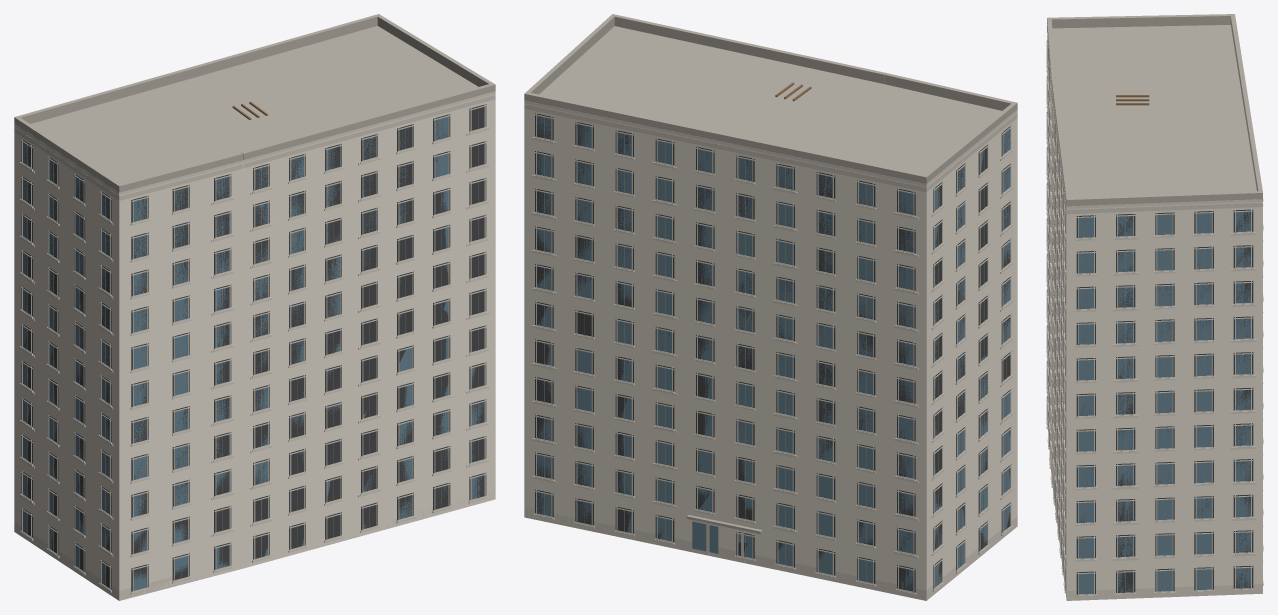
Rendered from cop_residencial_orla_05__way_586695359.fbx.
3 renders of one model, left to right at view 1: azimuth 30°, elevation 25°; view 2: azimuth 150°, elevation 25°; view 3: azimuth 270°, elevation 25°, orthographic. The views are drawn at different scales.
Visible parts, largest first — view 1: cop_residencial_orla_05__way_586695359_wall, cop_residencial_orla_05__way_586695359_shadow, cop_residencial_orla_05__way_586695359_roof, cop_residencial_orla_05__way_586695359_trim, cop_residencial_orla_05__way_586695359_glass, cop_residencial_orla_05__way_586695359_stone, cop_residencial_orla_05__way_586695359_metal; view 2: cop_residencial_orla_05__way_586695359_wall, cop_residencial_orla_05__way_586695359_roof, cop_residencial_orla_05__way_586695359_glass, cop_residencial_orla_05__way_586695359_shadow, cop_residencial_orla_05__way_586695359_trim, cop_residencial_orla_05__way_586695359_stone, cop_residencial_orla_05__way_586695359_metal; view 3: cop_residencial_orla_05__way_586695359_wall, cop_residencial_orla_05__way_586695359_roof, cop_residencial_orla_05__way_586695359_glass, cop_residencial_orla_05__way_586695359_trim, cop_residencial_orla_05__way_586695359_shadow, cop_residencial_orla_05__way_586695359_stone, cop_residencial_orla_05__way_586695359_metal, cop_residencial_orla_05__way_586695359_wood.
Boxes of the visible parts, x1=… form: cop_residencial_orla_05__way_586695359_wall: x1=14, y1=94, x2=495, y2=600; cop_residencial_orla_05__way_586695359_shadow: x1=21, y1=104, x2=486, y2=591; cop_residencial_orla_05__way_586695359_roof: x1=14, y1=14, x2=495, y2=192; cop_residencial_orla_05__way_586695359_trim: x1=14, y1=95, x2=495, y2=592; cop_residencial_orla_05__way_586695359_glass: x1=23, y1=117, x2=483, y2=590; cop_residencial_orla_05__way_586695359_stone: x1=14, y1=91, x2=495, y2=600; cop_residencial_orla_05__way_586695359_metal: x1=26, y1=109, x2=478, y2=589; cop_residencial_orla_05__way_586695359_wall: x1=524, y1=103, x2=1017, y2=600; cop_residencial_orla_05__way_586695359_roof: x1=524, y1=14, x2=1017, y2=534; cop_residencial_orla_05__way_586695359_glass: x1=537, y1=116, x2=1010, y2=591; cop_residencial_orla_05__way_586695359_shadow: x1=535, y1=113, x2=1011, y2=592; cop_residencial_orla_05__way_586695359_trim: x1=524, y1=104, x2=1017, y2=593; cop_residencial_orla_05__way_586695359_stone: x1=524, y1=100, x2=1017, y2=600; cop_residencial_orla_05__way_586695359_metal: x1=544, y1=117, x2=1006, y2=590; cop_residencial_orla_05__way_586695359_wall: x1=1047, y1=37, x2=1262, y2=600; cop_residencial_orla_05__way_586695359_roof: x1=1047, y1=14, x2=1262, y2=206; cop_residencial_orla_05__way_586695359_glass: x1=1078, y1=211, x2=1250, y2=594; cop_residencial_orla_05__way_586695359_trim: x1=1046, y1=28, x2=1263, y2=595; cop_residencial_orla_05__way_586695359_shadow: x1=1047, y1=40, x2=1253, y2=594; cop_residencial_orla_05__way_586695359_stone: x1=1046, y1=24, x2=1263, y2=600; cop_residencial_orla_05__way_586695359_metal: x1=1054, y1=124, x2=1243, y2=594; cop_residencial_orla_05__way_586695359_wood: x1=1116, y1=95, x2=1149, y2=105.
Size of the model in its own units: 3062 by 3077 by 1509.
